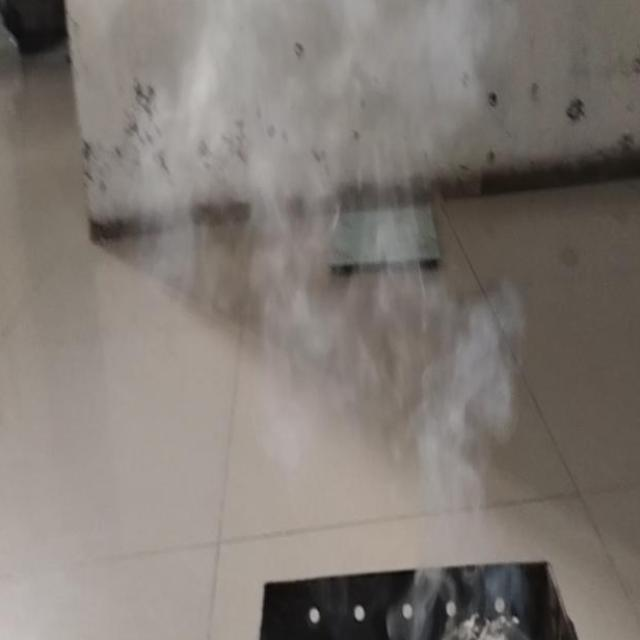fire: (403, 282, 527, 640)
